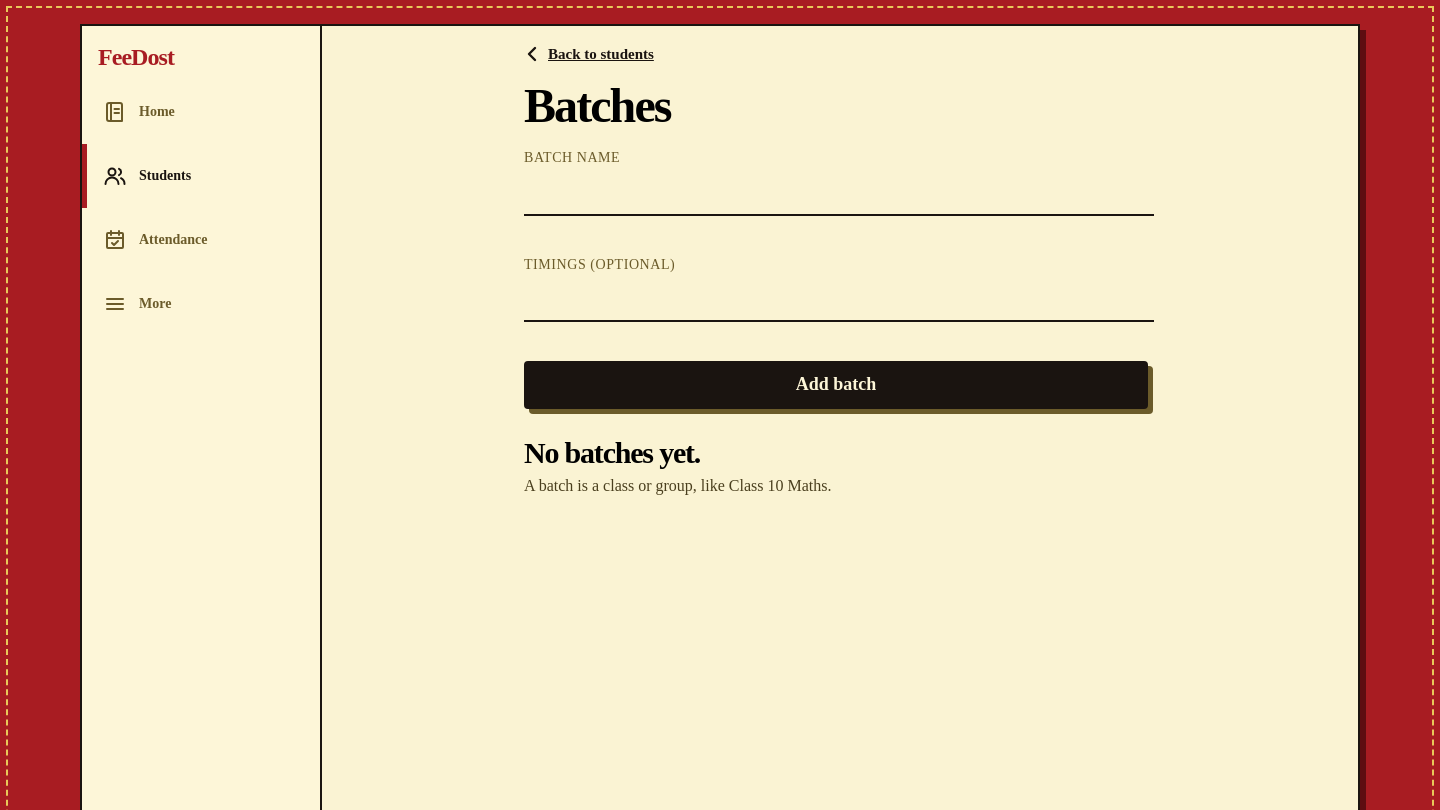
adding a batch (40, 41, 46) › shows Missing and the sentence for an empty name, and sends nothing
The width and height of the screenshot is (1440, 810).
Click the button "Add batch" at (836, 385), box [524,361,1148,409]
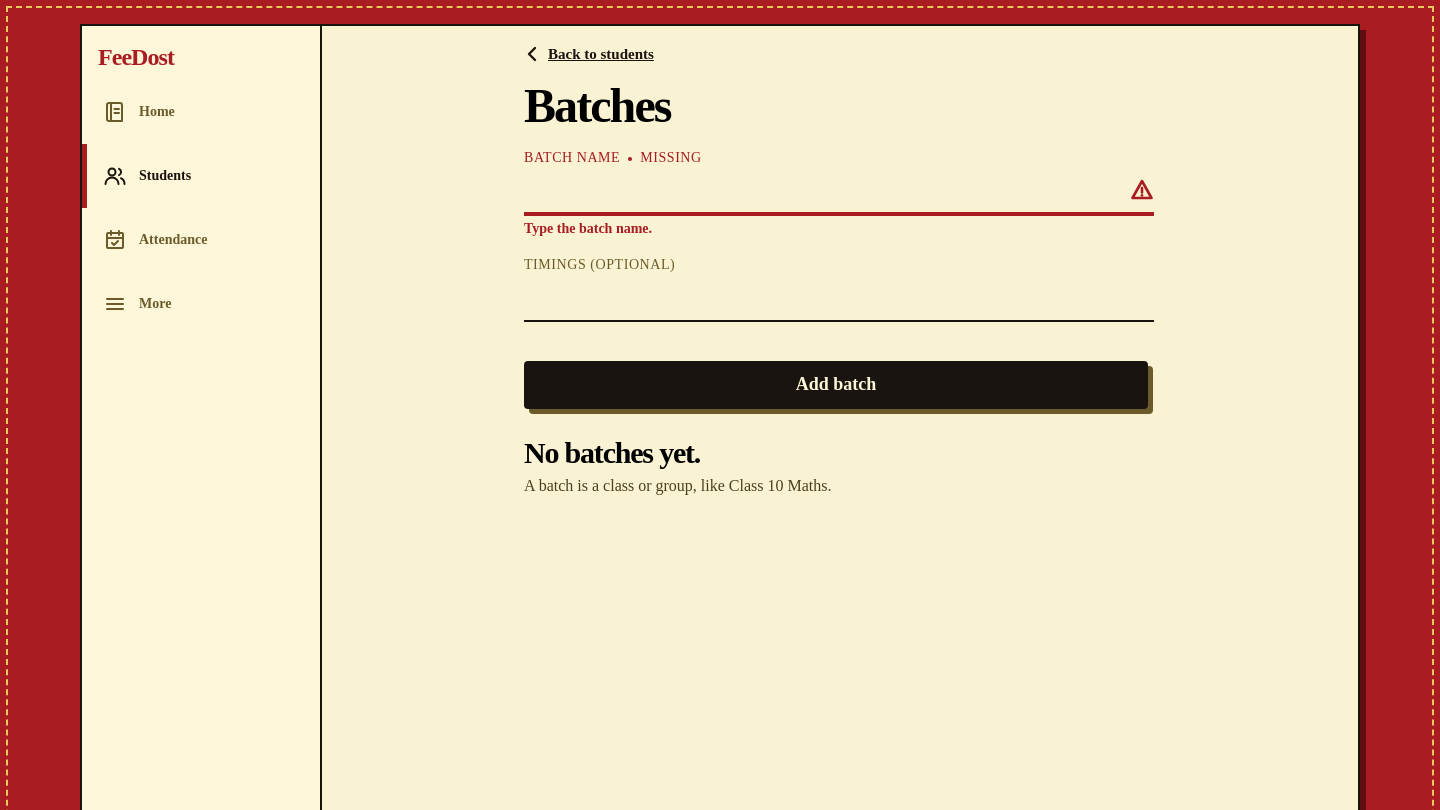
expect the text "Type the batch name." is shown: met, box [524,221,652,236]
expect the text "Missing" is shown: met, box [640,150,702,165]
